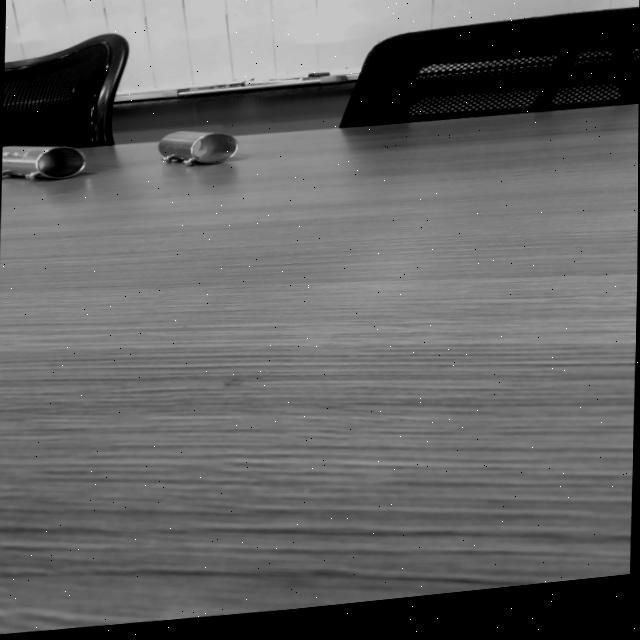Co_Lon: (1, 145, 85, 180)
Co_Nho: (157, 128, 238, 168)
